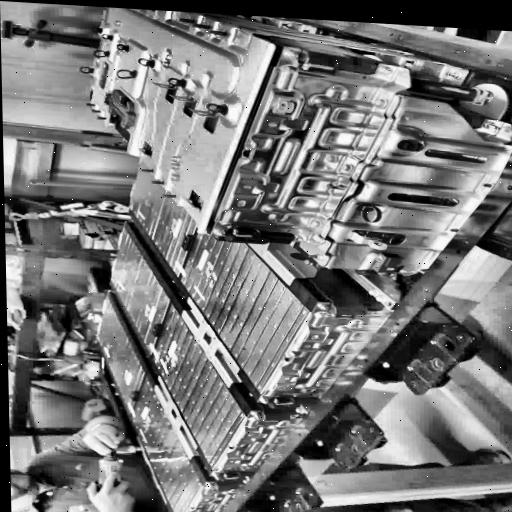battery_module: (178, 203, 311, 394), (152, 301, 245, 470), (129, 373, 202, 512), (110, 225, 171, 356), (98, 295, 145, 417)
